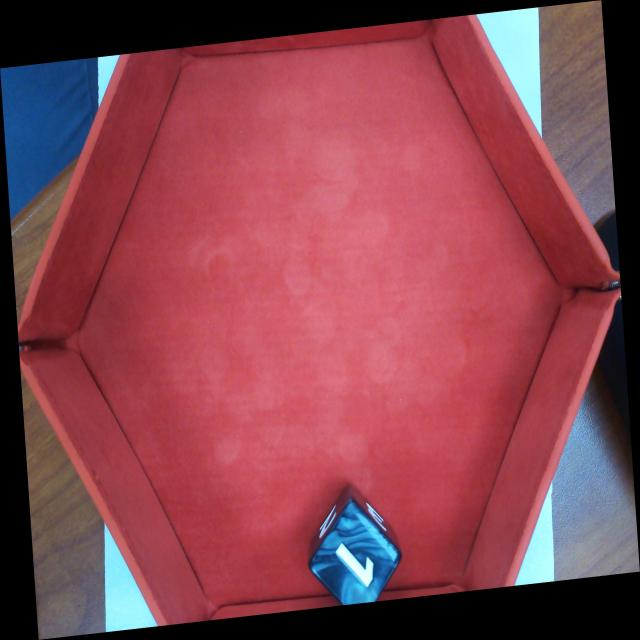dice: (306, 494, 403, 632)
